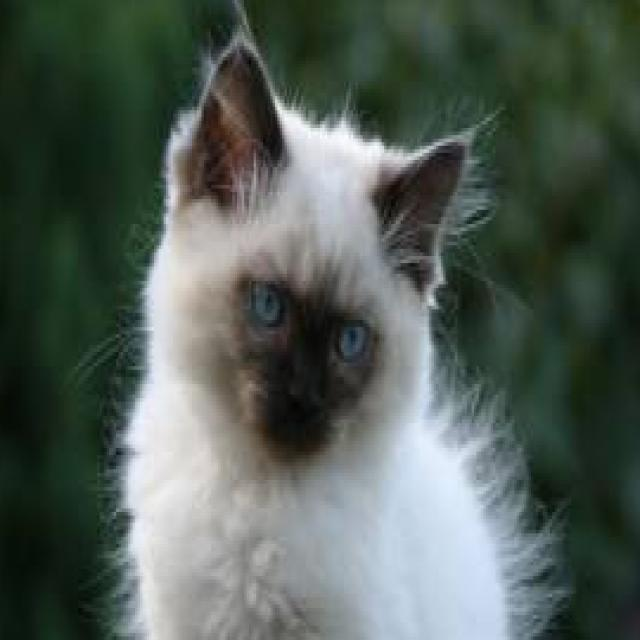Ragdoll: (116, 18, 552, 640)
